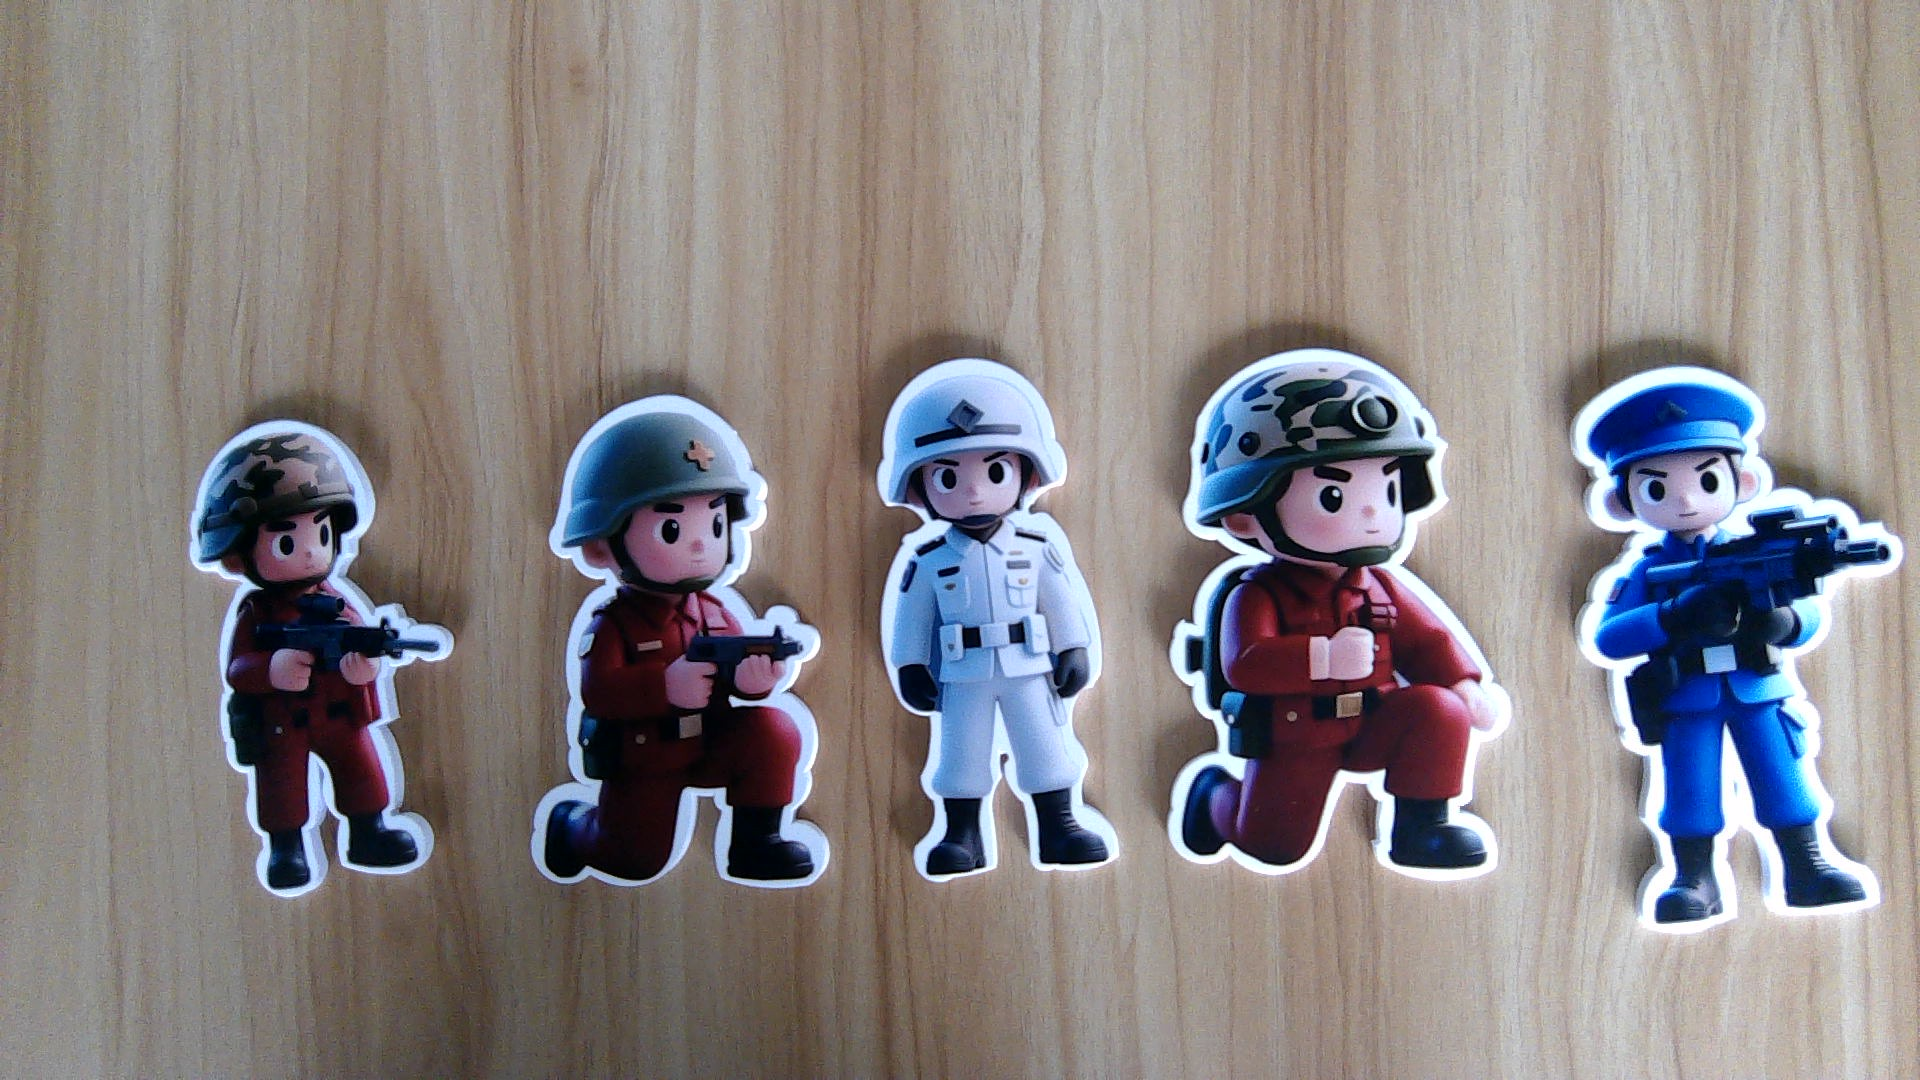人质: (872, 520, 1116, 882)
敌人1: (1160, 560, 1511, 887), (524, 593, 833, 891), (212, 585, 448, 897)
敌人2: (1577, 531, 1904, 939)
